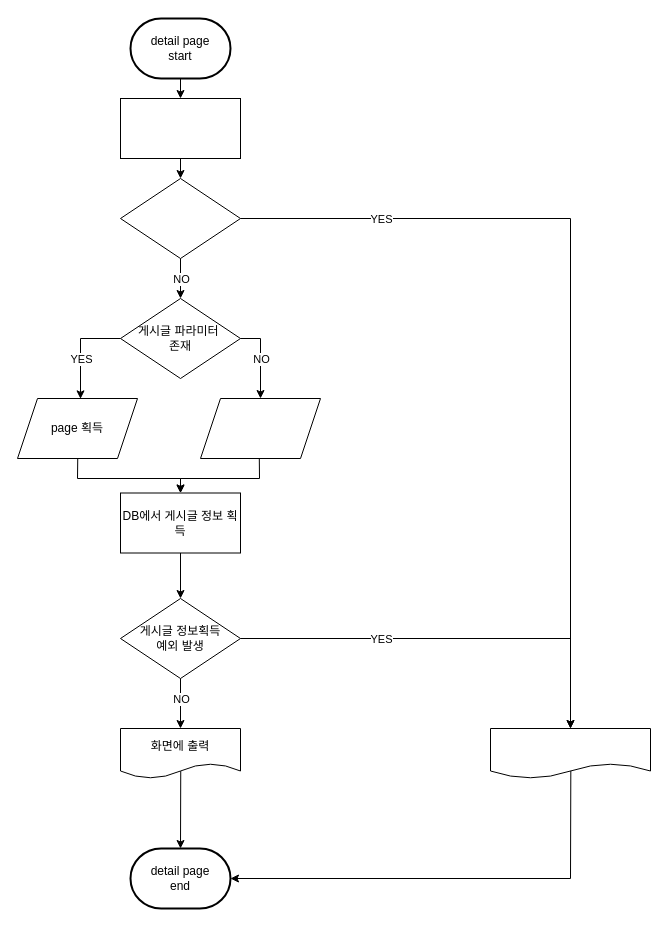
Image size: 668x926. Some labels were removed from this diagram. The shapes that lost their labels are listed below. From the top down, each one's centre as x and y in pixels, then its label:
At (180,128): "DB connect".
At (180,218): "DB 접속 예외 발생".
At (260,428): "1 획득".
At (570,753): "예외 메세지 출력".
